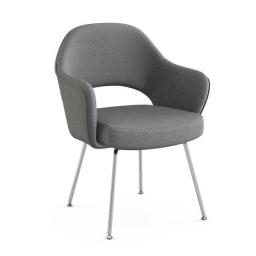Chair: (52, 20, 211, 237)
